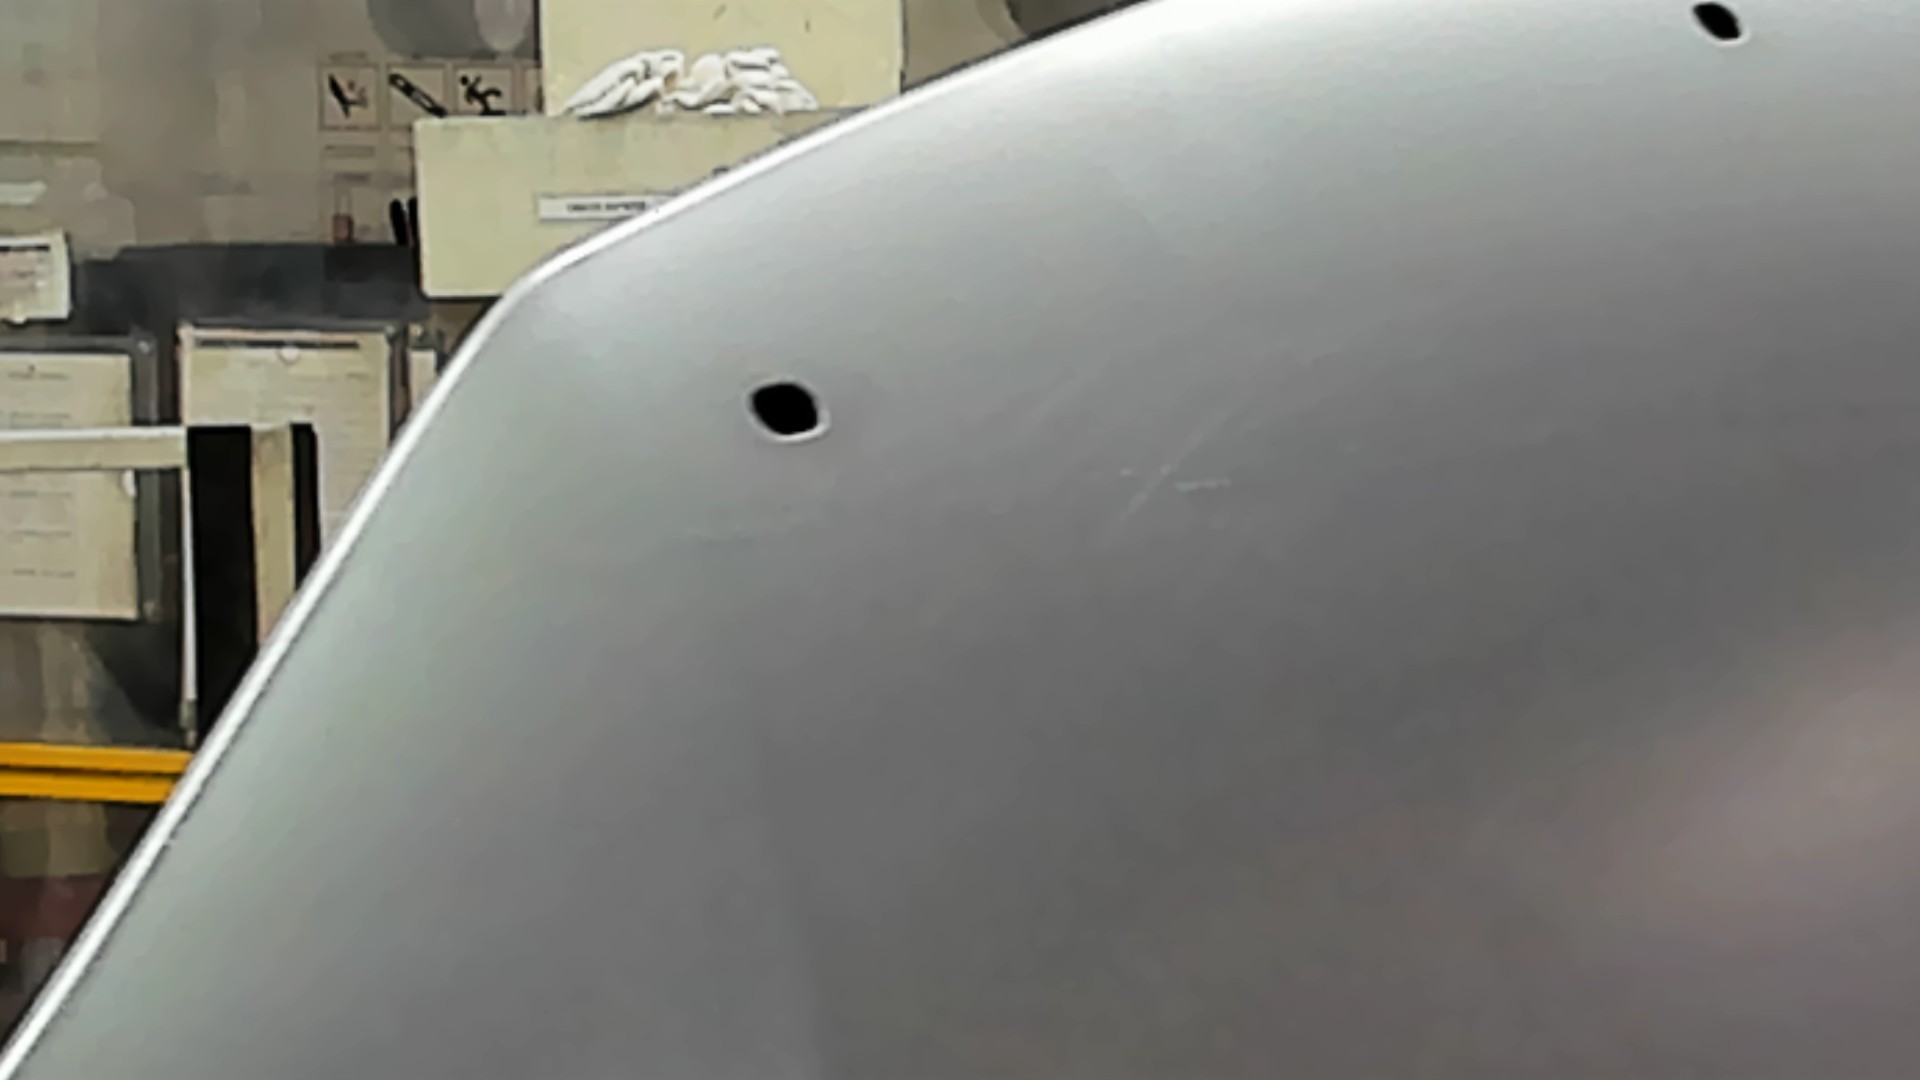amorfo: (737, 375, 833, 444), (1684, 5, 1751, 51)
capo: (898, 123, 1920, 1080)
